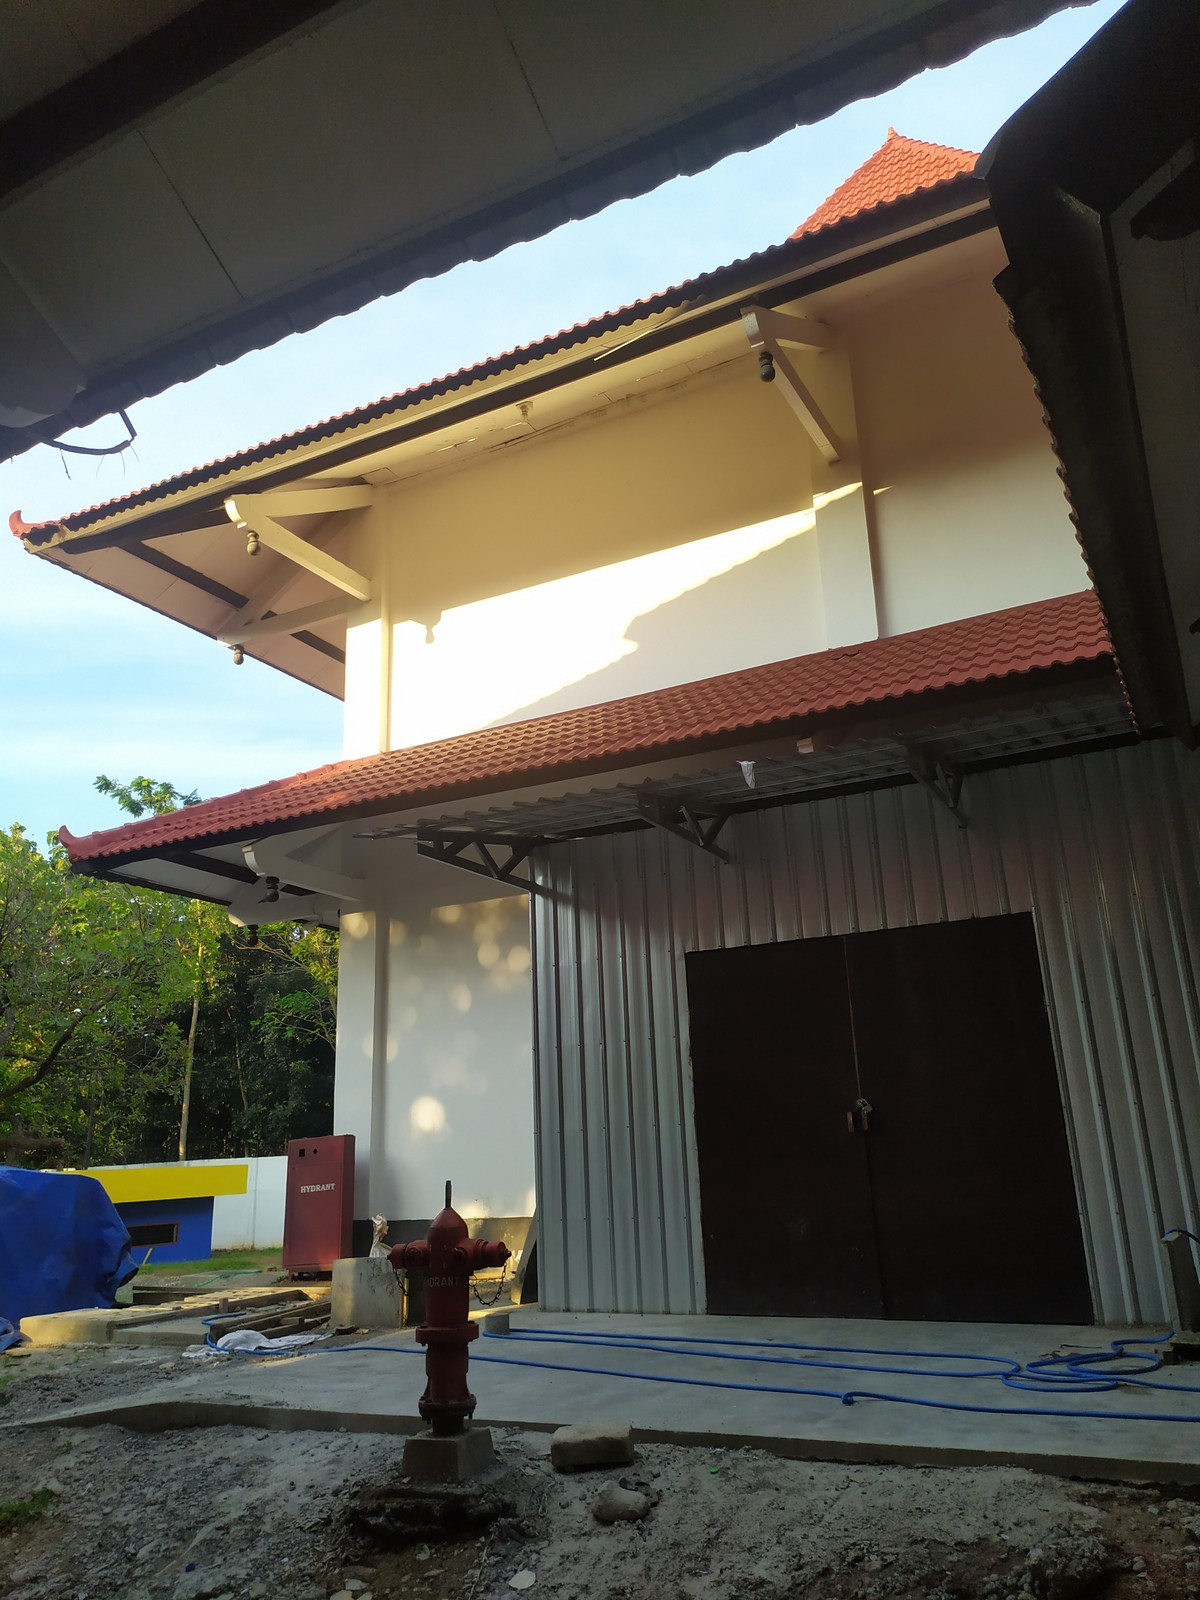concrete beam: (251, 593, 366, 643)
concrete column: (329, 867, 395, 1225), (334, 493, 400, 763)
